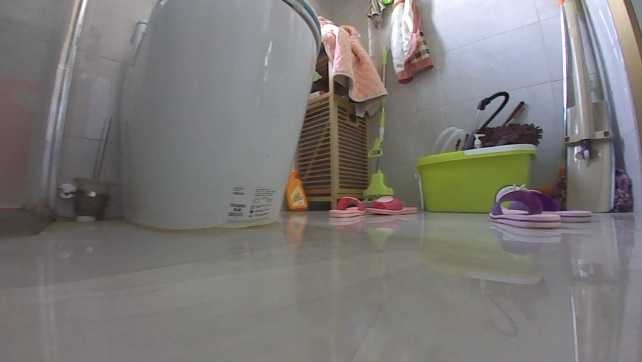bottle: (281, 165, 311, 213)
slipper: (486, 184, 560, 230), (531, 187, 597, 220), (365, 191, 418, 218), (324, 191, 366, 219)
toilet: (114, 0, 323, 234)
